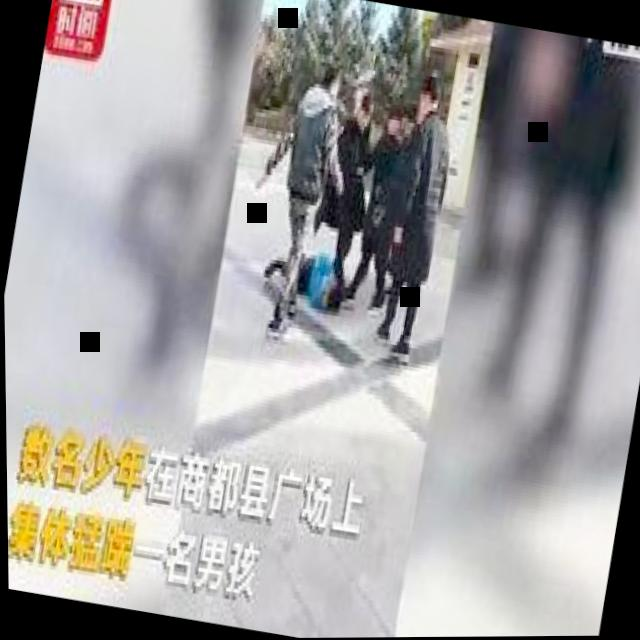Fall-Detected: (248, 219, 367, 327)
